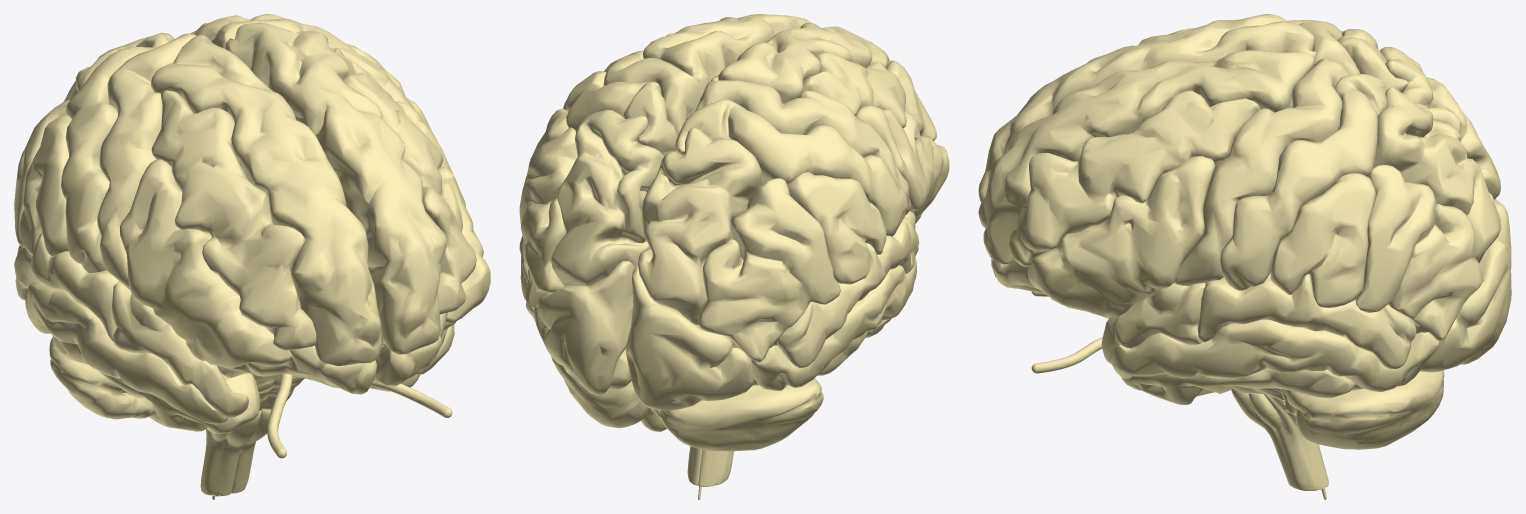
Rendered from nervoso.glb.
The picture shows the model from 3 angles, left to right: view 1: azimuth 30°, elevation 25°; view 2: azimuth 150°, elevation 25°; view 3: azimuth 270°, elevation 25°; orthographic projection. The views are drawn at different scales.
Parts seen in each view (by area): view 1: FMA72653, FMA72654, FMA72655, FMA72701, FMA72661, FMA72665, FMA72685, FMA72656, FMA72800, BP51, FMA72667, FMA72804 (+11 smaller); view 2: FMA72669, BP50, BP49, FMA72975, FMA67944, FMA72665, FMA72976, FMA72653, FMA72667, FMA72661, FMA72670, FMA72654 (+9 smaller); view 3: FMA72654, FMA72656, FMA72702, FMA72670, FMA72686, FMA72666, FMA72662, FMA72653, FMA72668, BP49, FMA72805, FMA67944 (+9 smaller).
Part boxes in pixels (box(x1,y1,x2,y2)): FMA72653: box(151, 35, 381, 365); FMA72654: box(225, 22, 446, 354); FMA72655: box(151, 90, 316, 350); FMA72701: box(120, 159, 292, 368); FMA72661: box(97, 33, 196, 290); FMA72665: box(61, 32, 174, 273); FMA72685: box(25, 281, 228, 424); FMA72656: box(333, 49, 476, 314); FMA72800: box(111, 281, 248, 417); BP51: box(217, 312, 456, 394); FMA72667: box(19, 115, 71, 255); FMA72804: box(14, 232, 118, 341); FMA72669: box(698, 178, 840, 362); BP50: box(638, 127, 763, 324); BP49: box(551, 109, 663, 286); FMA72975: box(626, 264, 754, 410); FMA67944: box(551, 357, 823, 451); FMA72665: box(675, 99, 907, 236); FMA72976: box(534, 261, 634, 395); FMA72653: box(711, 22, 890, 103); FMA72667: box(787, 172, 886, 284); FMA72661: box(695, 80, 911, 214); FMA72670: box(519, 127, 577, 307); FMA72654: box(643, 14, 811, 96); FMA72654: box(978, 50, 1315, 264); FMA72656: box(1009, 90, 1260, 266); FMA72702: box(1027, 156, 1215, 317); FMA72670: box(1355, 164, 1483, 340); FMA72686: box(1110, 319, 1439, 391); FMA72666: box(1220, 73, 1389, 290); FMA72662: box(1174, 58, 1348, 285); FMA72653: box(978, 14, 1315, 202); FMA72668: box(1270, 173, 1375, 307); BP49: box(1373, 87, 1501, 262); FMA72805: box(1197, 272, 1416, 369); FMA67944: box(1282, 370, 1444, 449).
Bounding box in the file's own units: 0.1334 × 0.1623 × 0.1701.
